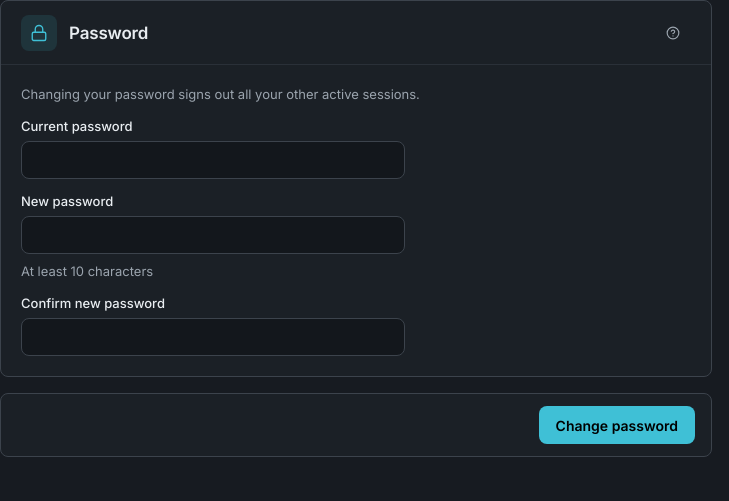
Test case: SecurityForm › says the current password is wrong when the server rejects it
This screenshot has width=729, height=501.
Type "not-my-password" into the password field labelled "Current password". click: (213, 160)
box: [21,141,405,179]
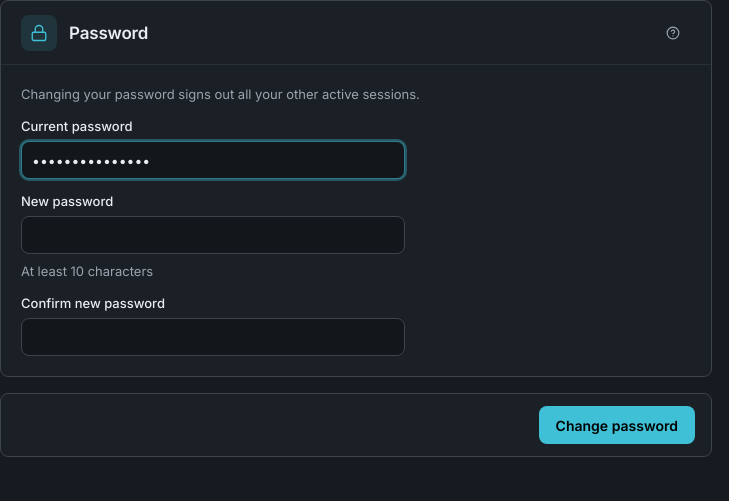
Type "a-new-password-1" into the password field labelled "New password". click: (213, 235)
box: [21,216,405,254]
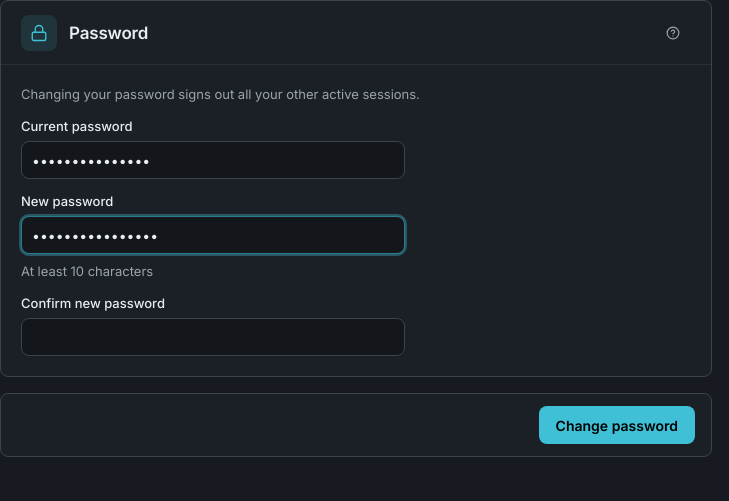
Type "a-new-password-1" into the password field labelled "Confirm new password". click: (213, 337)
box: [21,318,405,356]
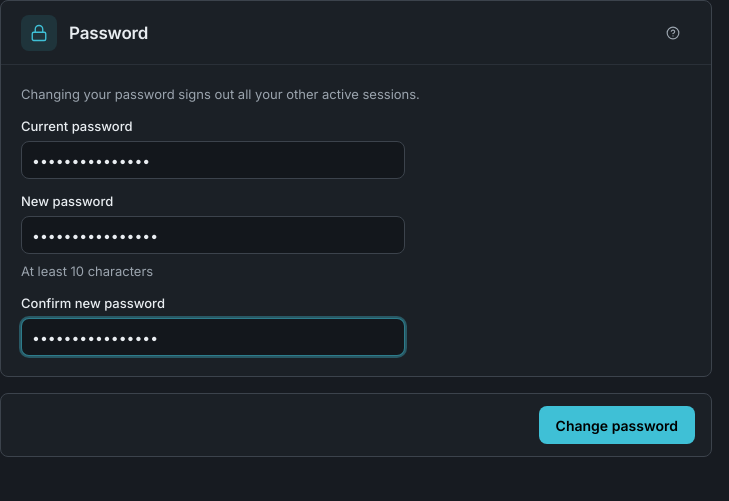
Click the button "Change password". click: (617, 425)
box: [539,406,695,444]
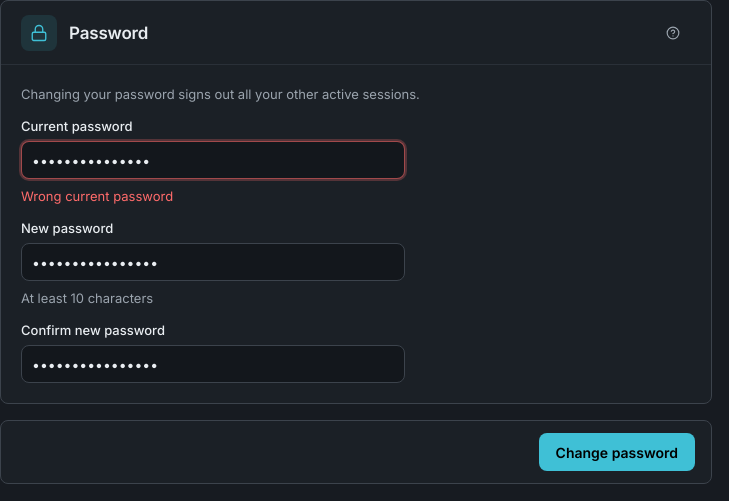
Now the text "Wrong current password" is shown, box [21,188,173,204]
